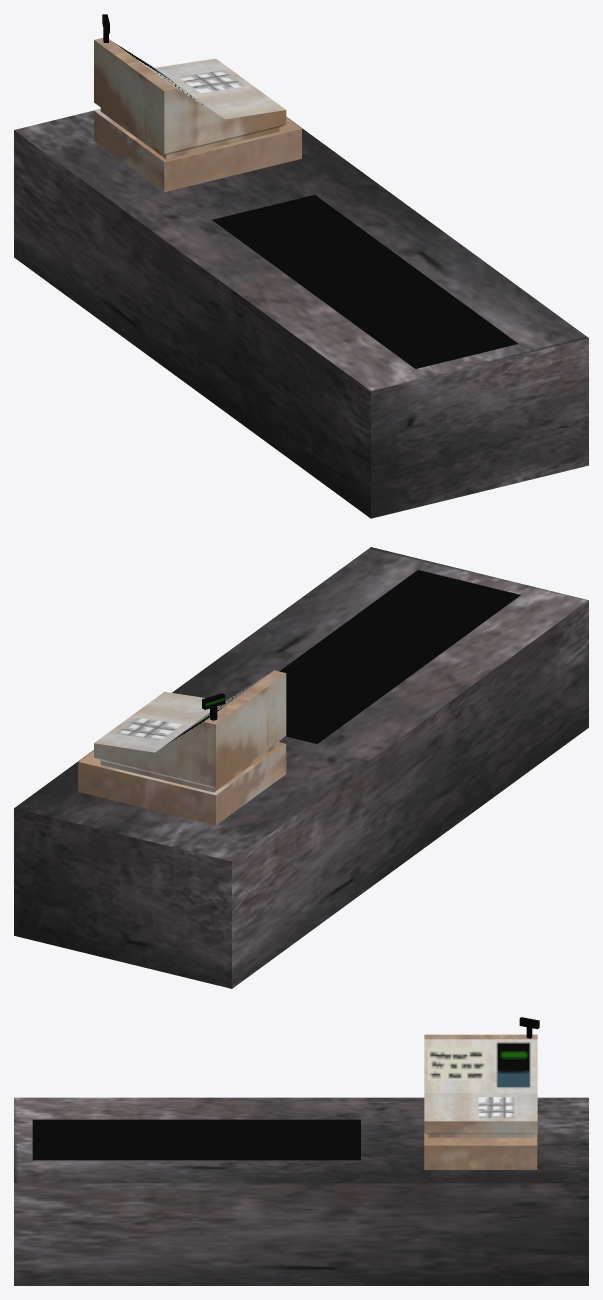
File: CASH_REGISTER.fbx
The picture shows the model from 3 angles, top to bottom: view 1: azimuth 30°, elevation 25°; view 2: azimuth 150°, elevation 25°; view 3: azimuth 270°, elevation 25°; orthographic projection. The views are drawn at different scales.
Visible parts, largest first — view 1: register_box, CASH; view 2: register_box, CASH; view 3: register_box, CASH.
Part boxes in pixels (box(x1,y1,x2,y2)): register_box: box(14, 109, 588, 518); CASH: box(94, 14, 301, 192); register_box: box(14, 547, 588, 988); CASH: box(78, 670, 286, 825); register_box: box(14, 1097, 588, 1285); CASH: box(424, 1017, 539, 1169).
Size of the model in its own units: 35.81 by 39.45 by 102.
